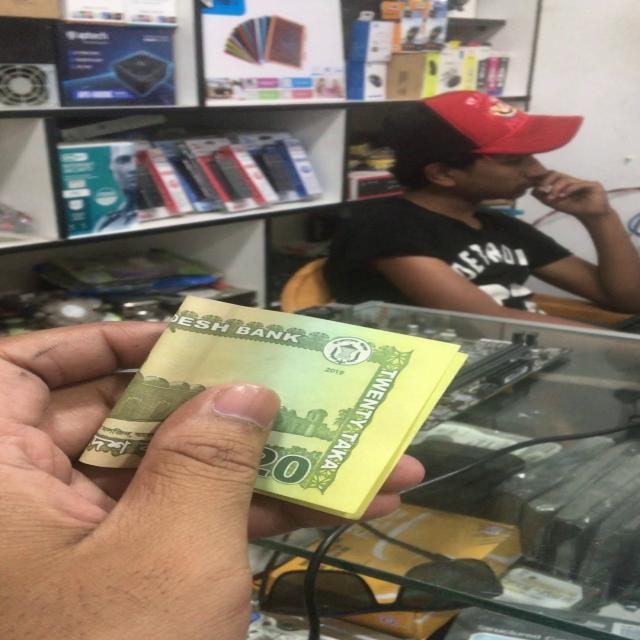Taka: (99, 292, 440, 523)
